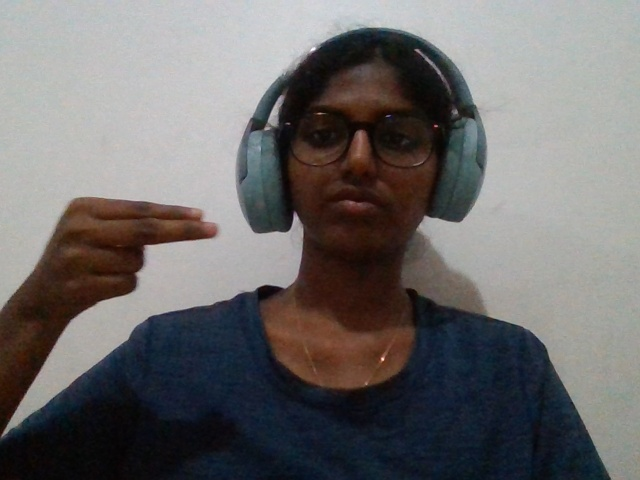H: (6, 181, 248, 335)
